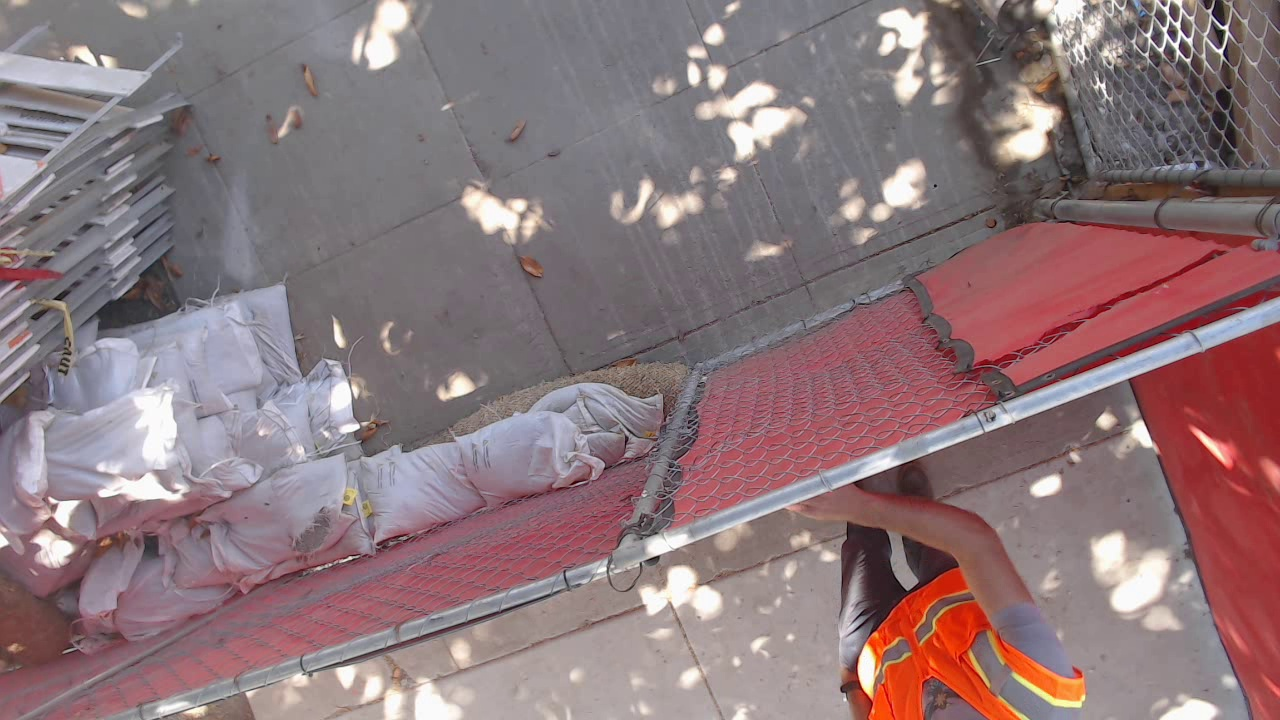person: (792, 504, 1092, 720)
safetyvest: (854, 564, 1089, 720)
